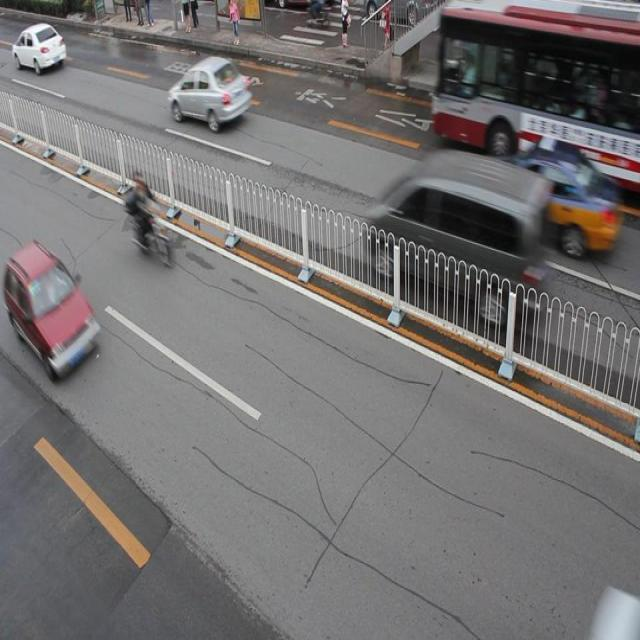car: (9, 242, 98, 371), (168, 54, 252, 130), (13, 22, 67, 74)
truck: (369, 149, 550, 325)
van: (434, 1, 640, 189)
